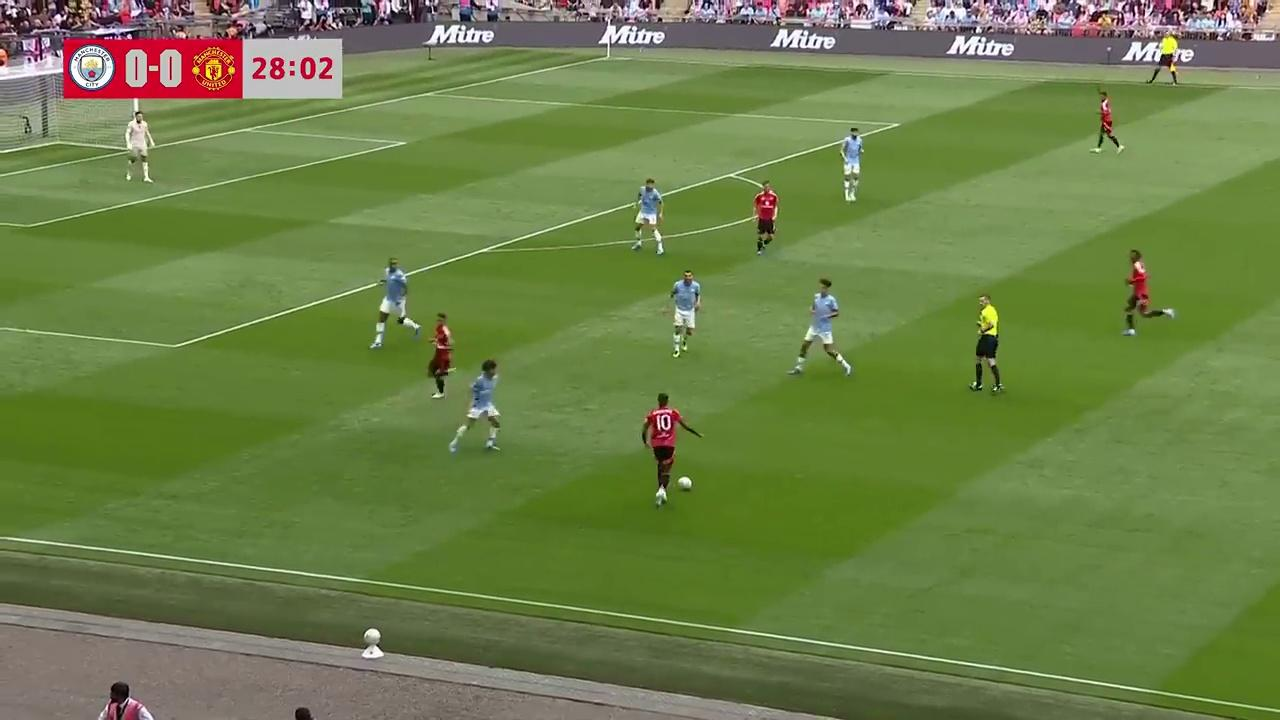ball: (677, 474, 693, 491)
player: (641, 393, 703, 508), (788, 278, 852, 379), (449, 358, 501, 454), (368, 257, 421, 350), (664, 268, 701, 357), (1121, 249, 1153, 336), (631, 177, 665, 255), (425, 312, 454, 399), (1091, 90, 1124, 154), (125, 113, 154, 183), (838, 127, 865, 202), (752, 180, 779, 255)
referee: (969, 293, 1004, 394), (1149, 34, 1180, 86)
